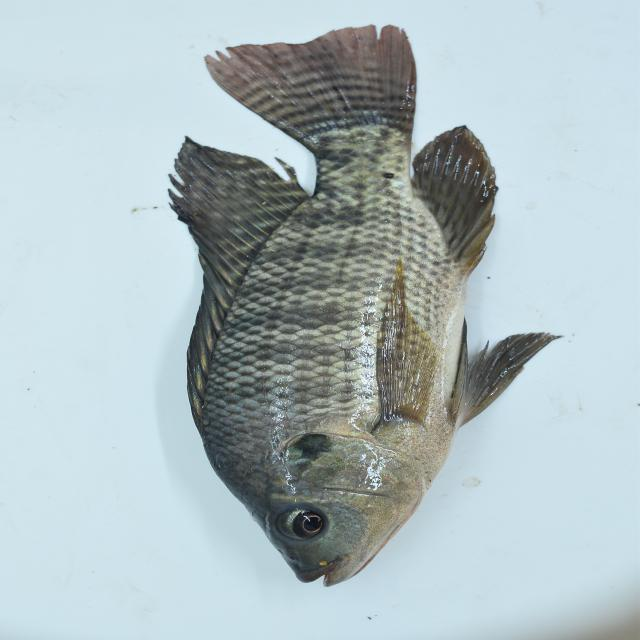Healthy Fish: (161, 24, 567, 591)
